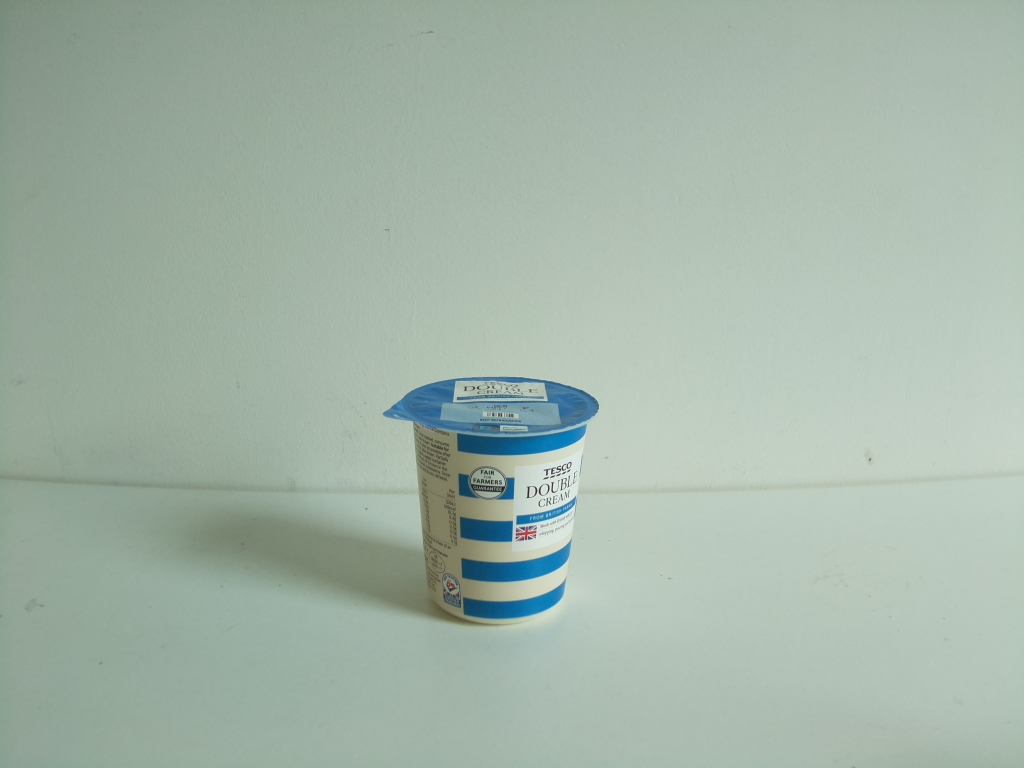cream: (403, 377, 603, 624)
